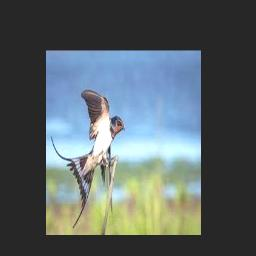Swallow: (51, 90, 124, 230)
